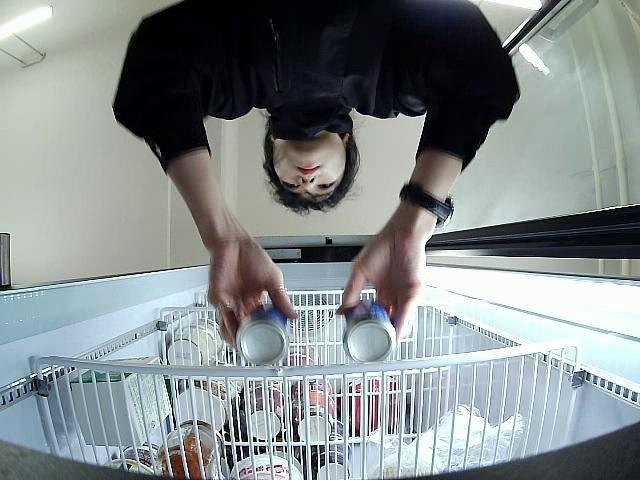15_letsbe: (341, 300, 396, 362), (234, 301, 288, 364)
